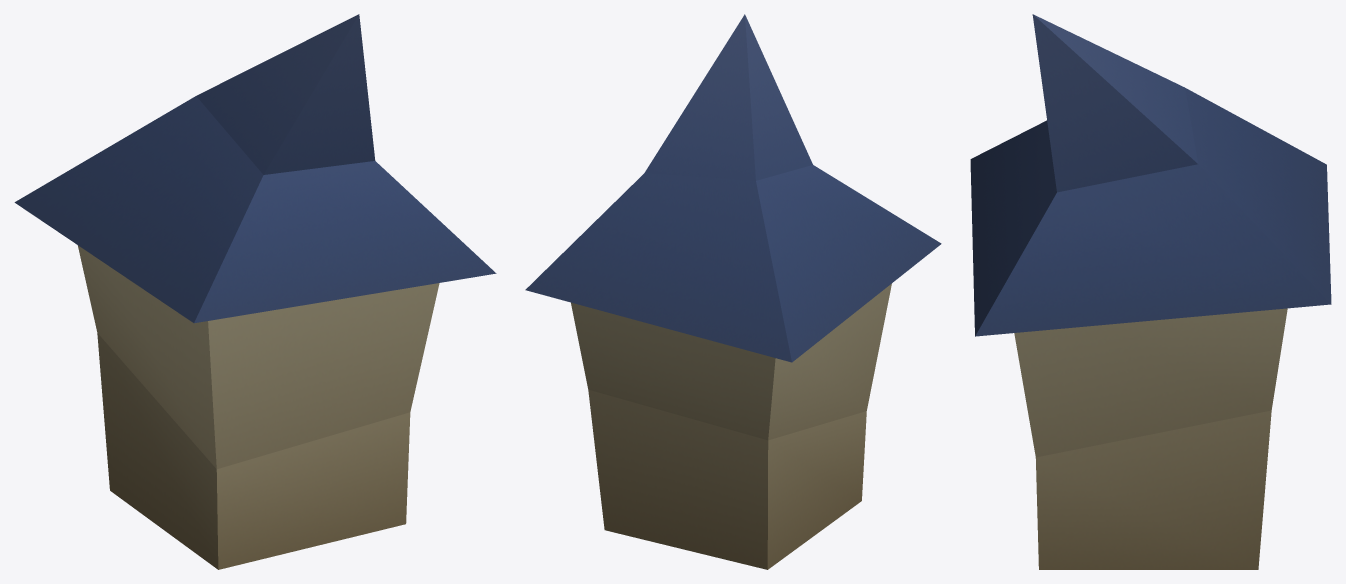
File: workers_house0.glb
3 views of the same model, side by side, from view 1: azimuth 30°, elevation 25°; view 2: azimuth 150°, elevation 25°; view 3: azimuth 270°, elevation 25° (orthographic). The views are drawn at different scales.
Parts seen in each view (by area): view 1: WorkersHouse; view 2: WorkersHouse; view 3: WorkersHouse.
Part boxes in pixels (left/top/right/bottom): WorkersHouse: left=14, top=14, right=496, bottom=569; WorkersHouse: left=525, top=14, right=941, bottom=569; WorkersHouse: left=970, top=14, right=1331, bottom=569.
Size of the model in its own units: 2.02 by 3.29 by 2.02.
1 material, 1 textured.
